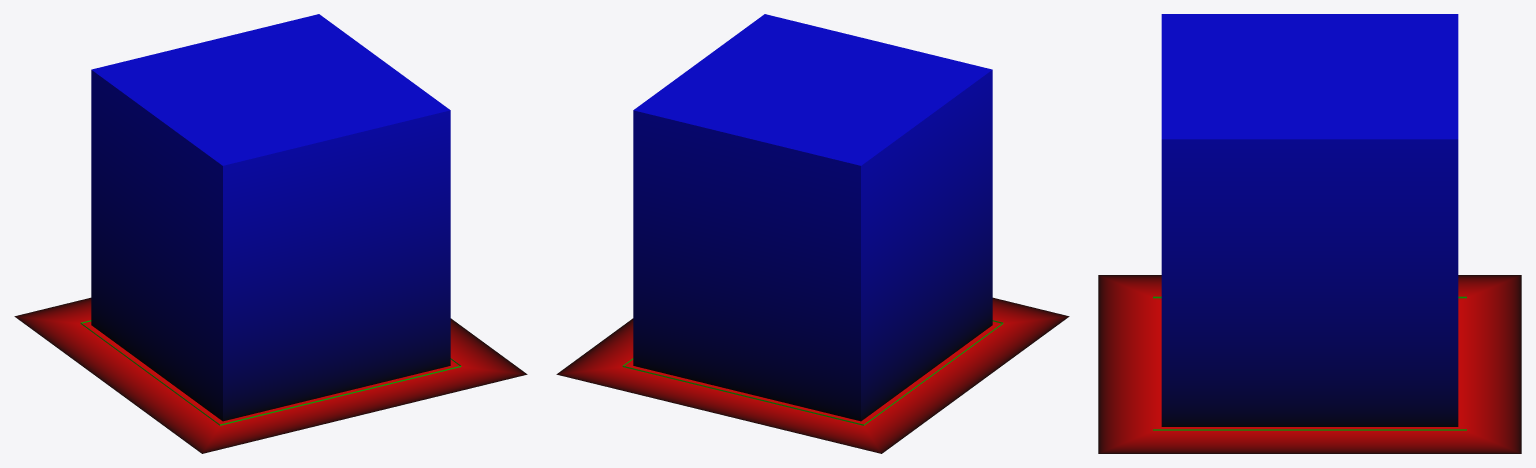
Rendered from CeilingHoleV3.fbx.
3 renders of one model, left to right at view 1: azimuth 30°, elevation 25°; view 2: azimuth 150°, elevation 25°; view 3: azimuth 270°, elevation 25°, orthographic. The views are drawn at different scales.
Parts seen in each view (by area): view 1: CeilingHoleV3; view 2: CeilingHoleV3; view 3: CeilingHoleV3.
Part boxes in pixels (x1,y1,x2,y2): CeilingHoleV3: (14, 14, 527, 453); CeilingHoleV3: (556, 14, 1069, 453); CeilingHoleV3: (1098, 14, 1521, 453).
Bounding box in the file's own units: 200 × 154 × 200.
